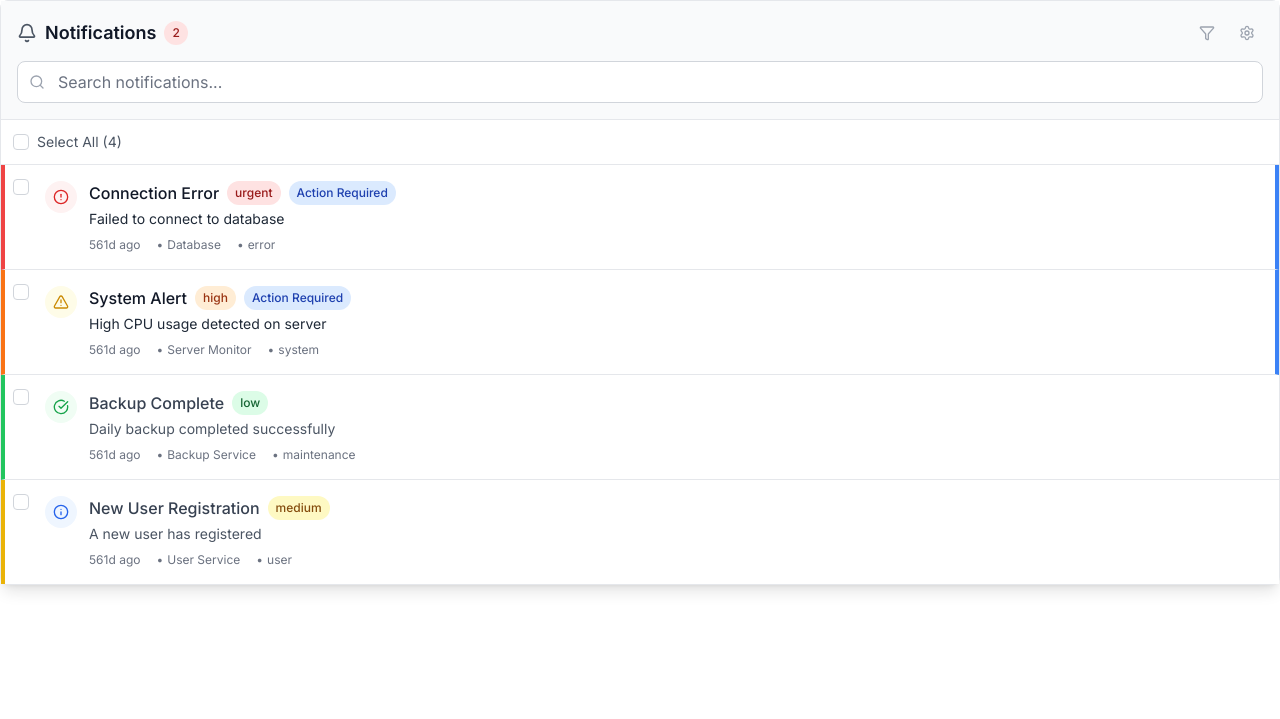
Scenario: NotificationPanel Component › Filtering › hides filters panel when filter button is clicked again
The image size is (1280, 719).
Click the button titled "Filters" at (1207, 33), box [1191, 17, 1223, 49]
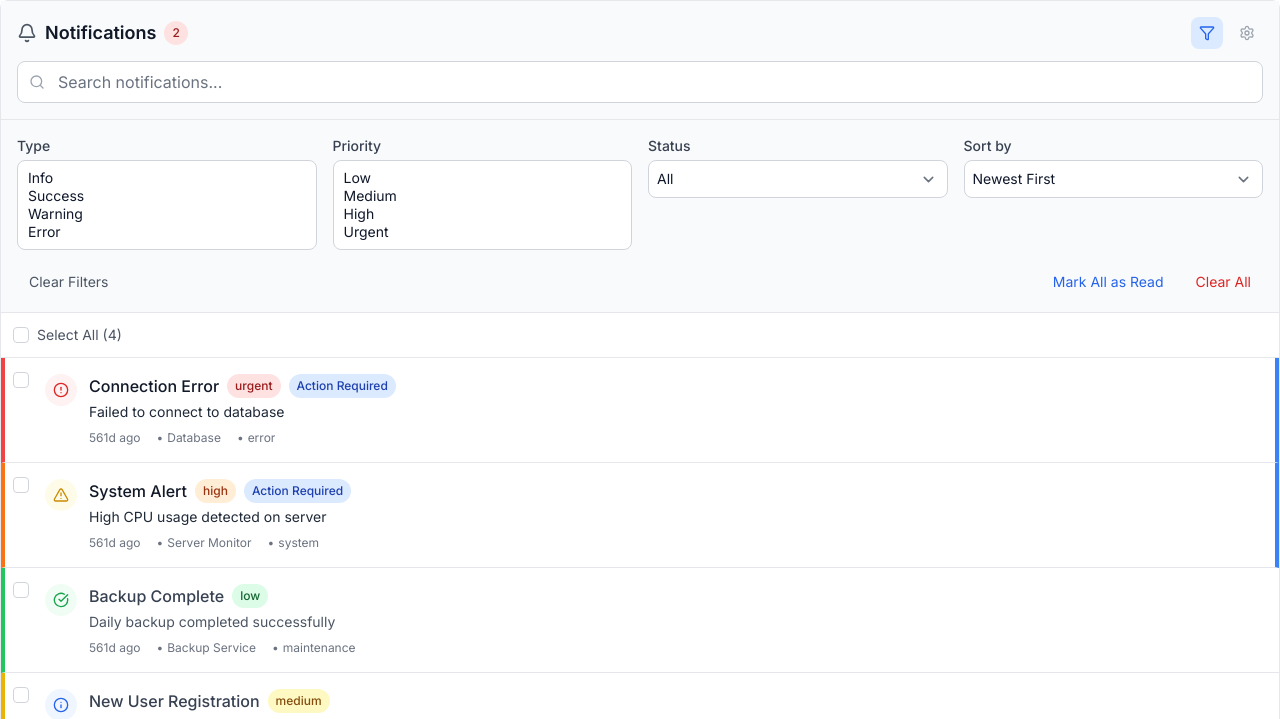
Click the button titled "Filters" at (1207, 33), box [1191, 17, 1223, 49]
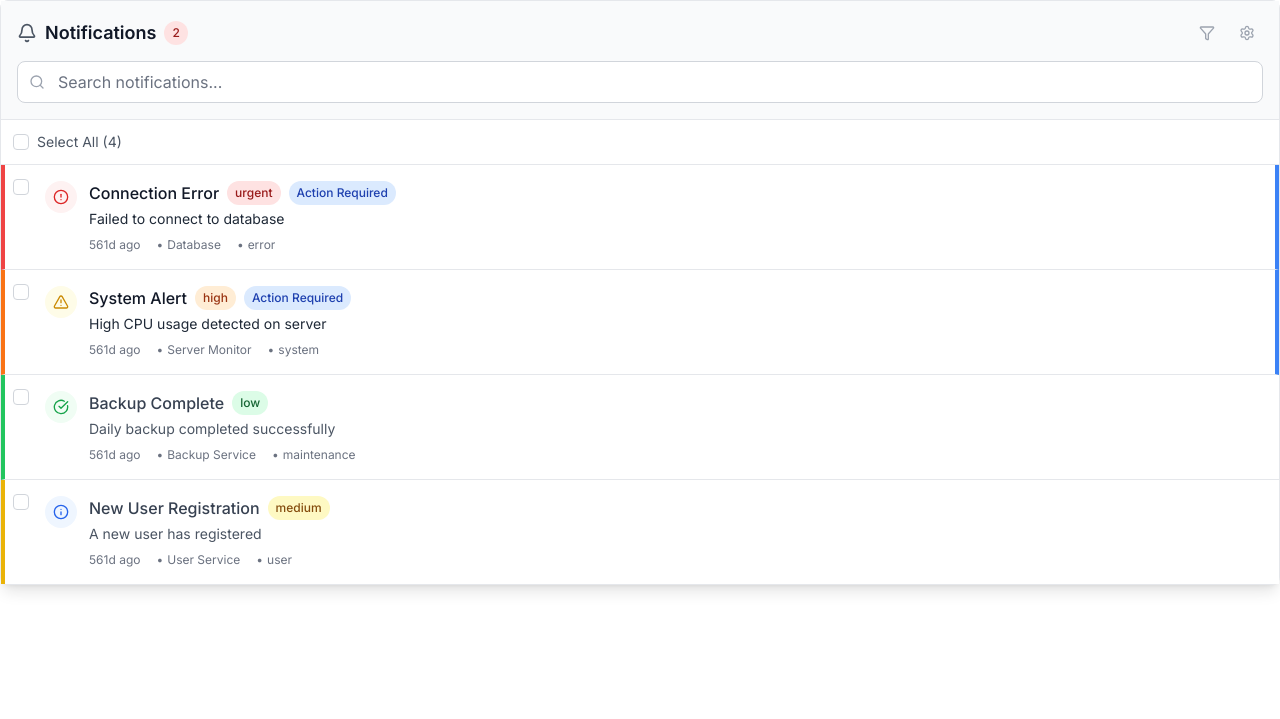
Expected: the text "Type" is gone
